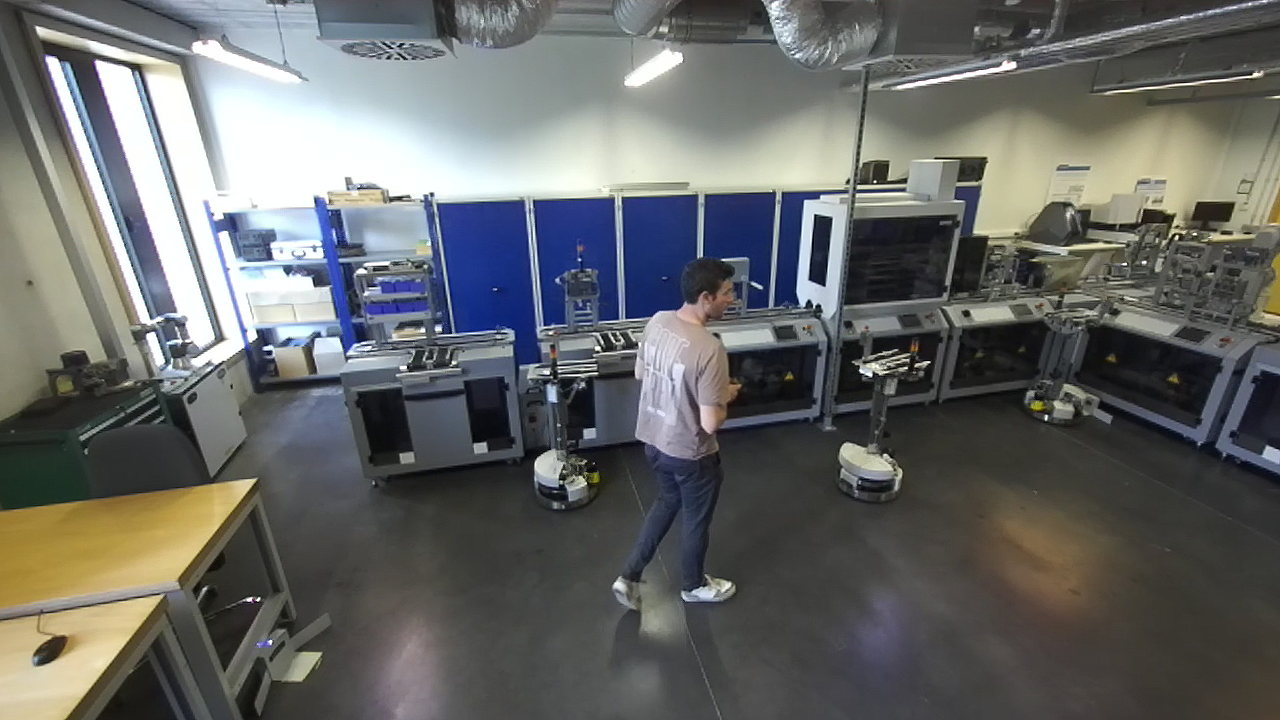AMR: (839, 323, 930, 506), (522, 329, 607, 510), (1027, 275, 1115, 426)
Human: (612, 256, 746, 610)
